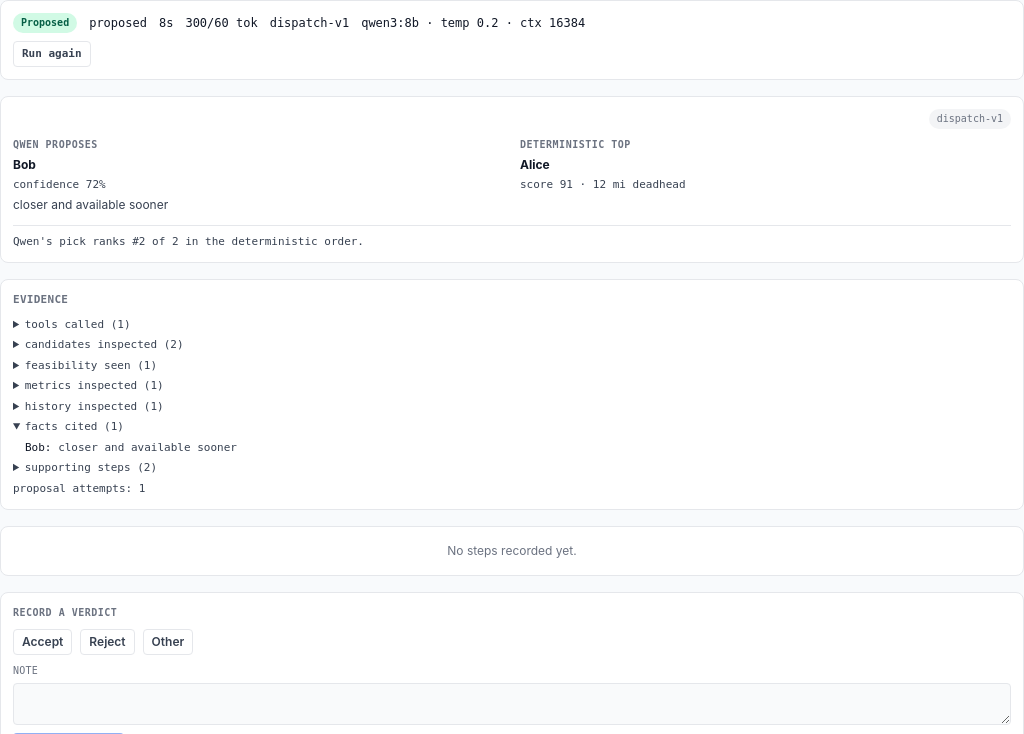
Scenario: AiRunView › verdict › Accept pre-fills the driver from the proposal
Click the button with test id "verdict-accept" at (43, 642), box [13, 629, 72, 655]
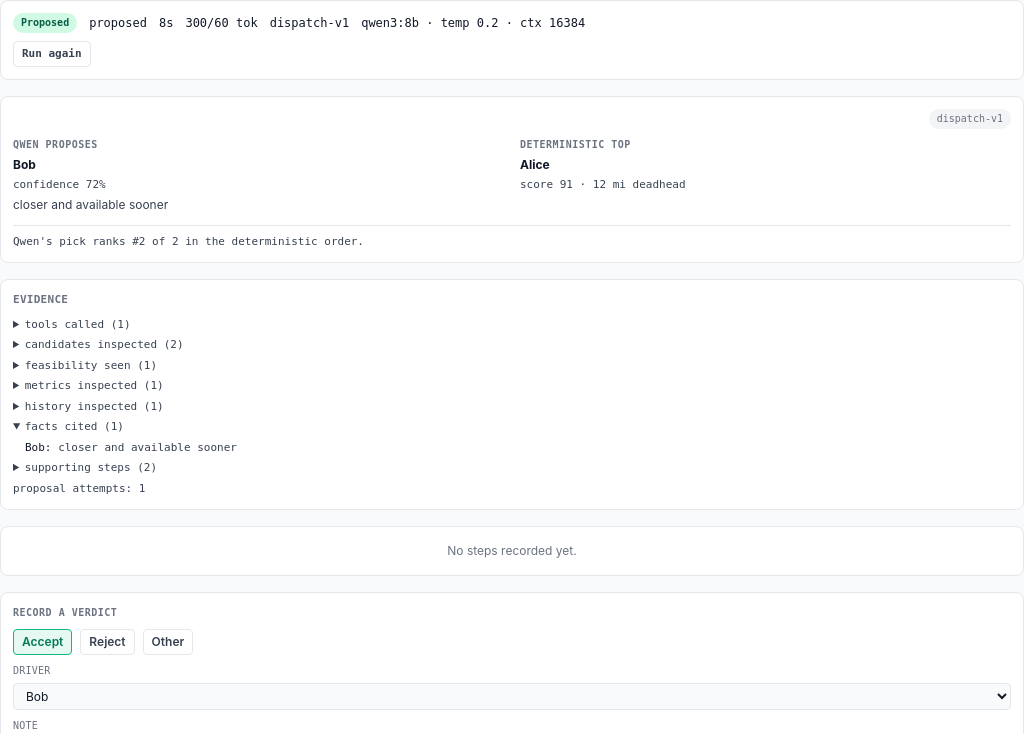
expect the dropdown with test id "verdict-driver" shows "Bob": met, box [13, 683, 1011, 710]
